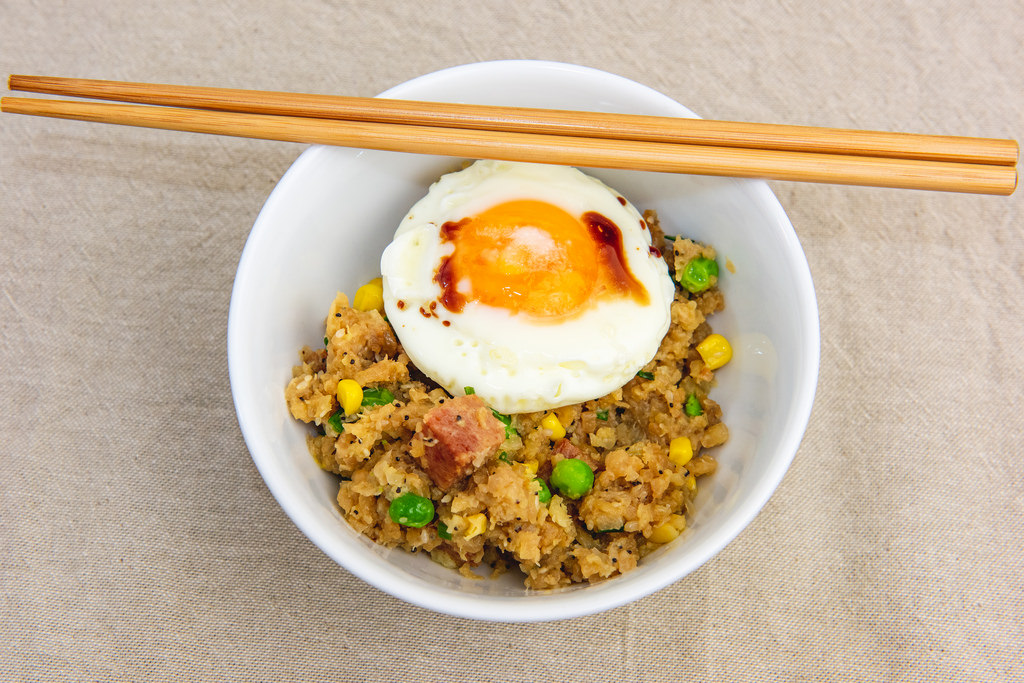boiled peas: (551, 459, 595, 499), (391, 490, 436, 526), (684, 251, 716, 294)
fried egg: (386, 178, 677, 409)
